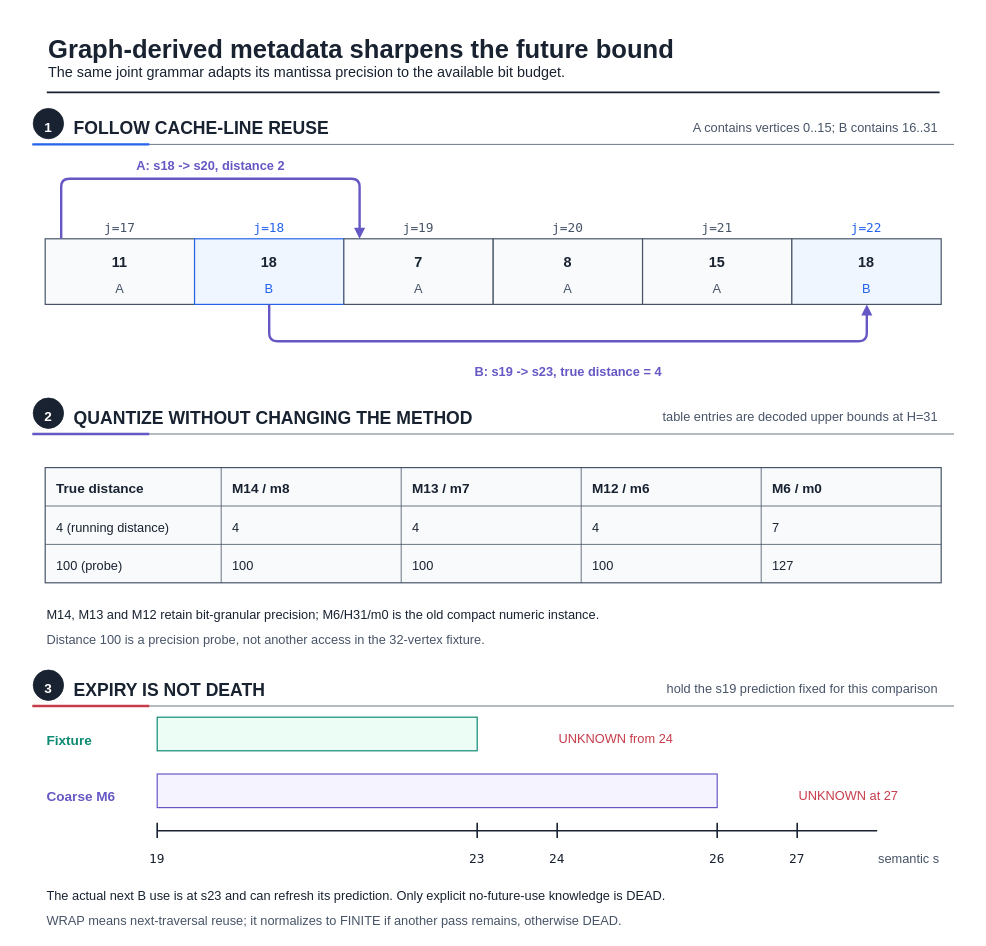
Image size: 986x946. Some labels were removed from this diagram. The shapes that lost their labels are listed below. From the top down, each one's box as (x1, y1, x2, y2) in pixels, then its label:
(156, 716, 477, 751): FINITE through deadline 23
(156, 773, 717, 808): FINITE through upper-bound deadline 26
